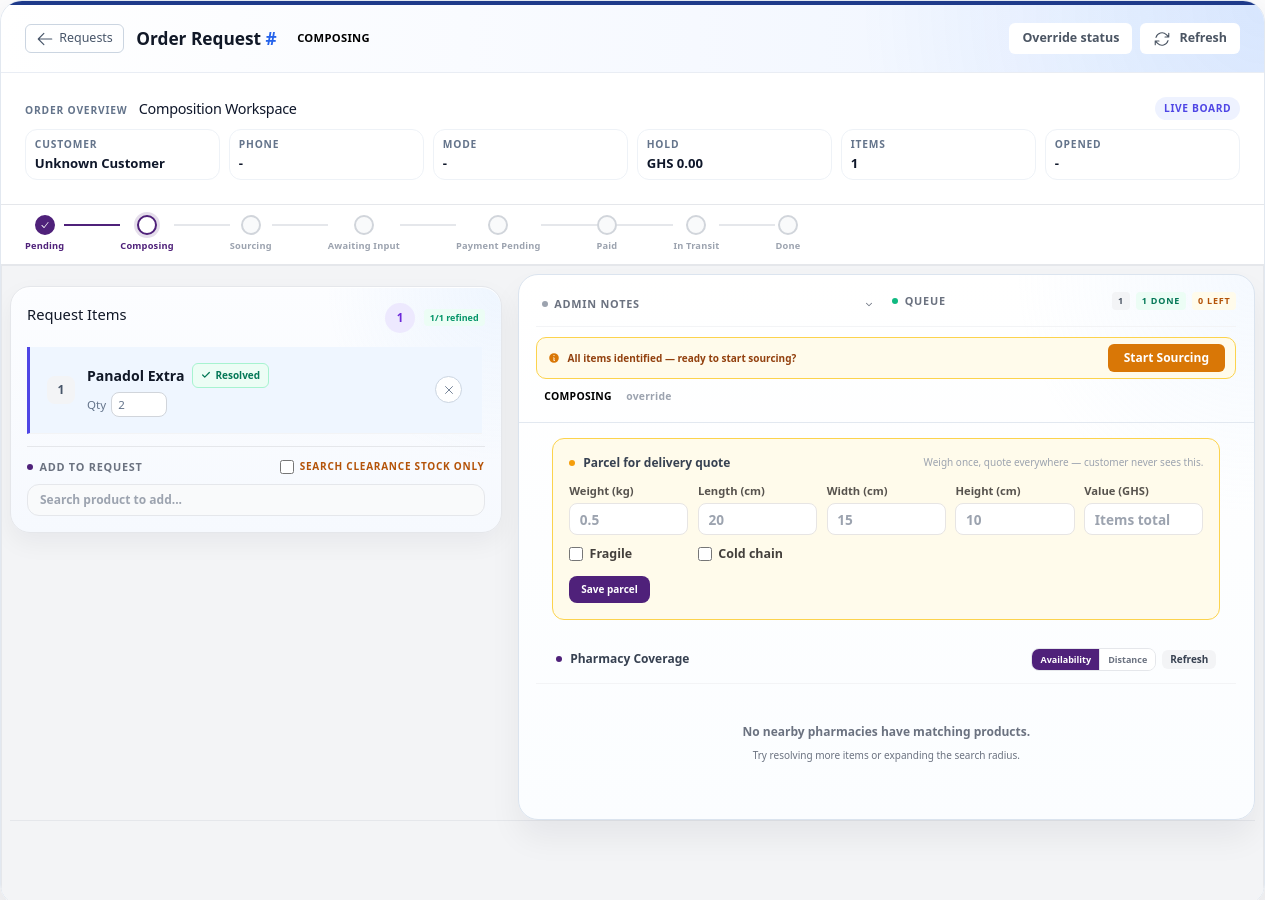
Test case: compose: adding an item › offers Add only once a name has been typed
This screenshot has width=1280, height=900.
Type "Amoxicillin" into the field with placeholder "Search product to add..." at (256, 500), box left=27, top=484, right=485, bottom=516
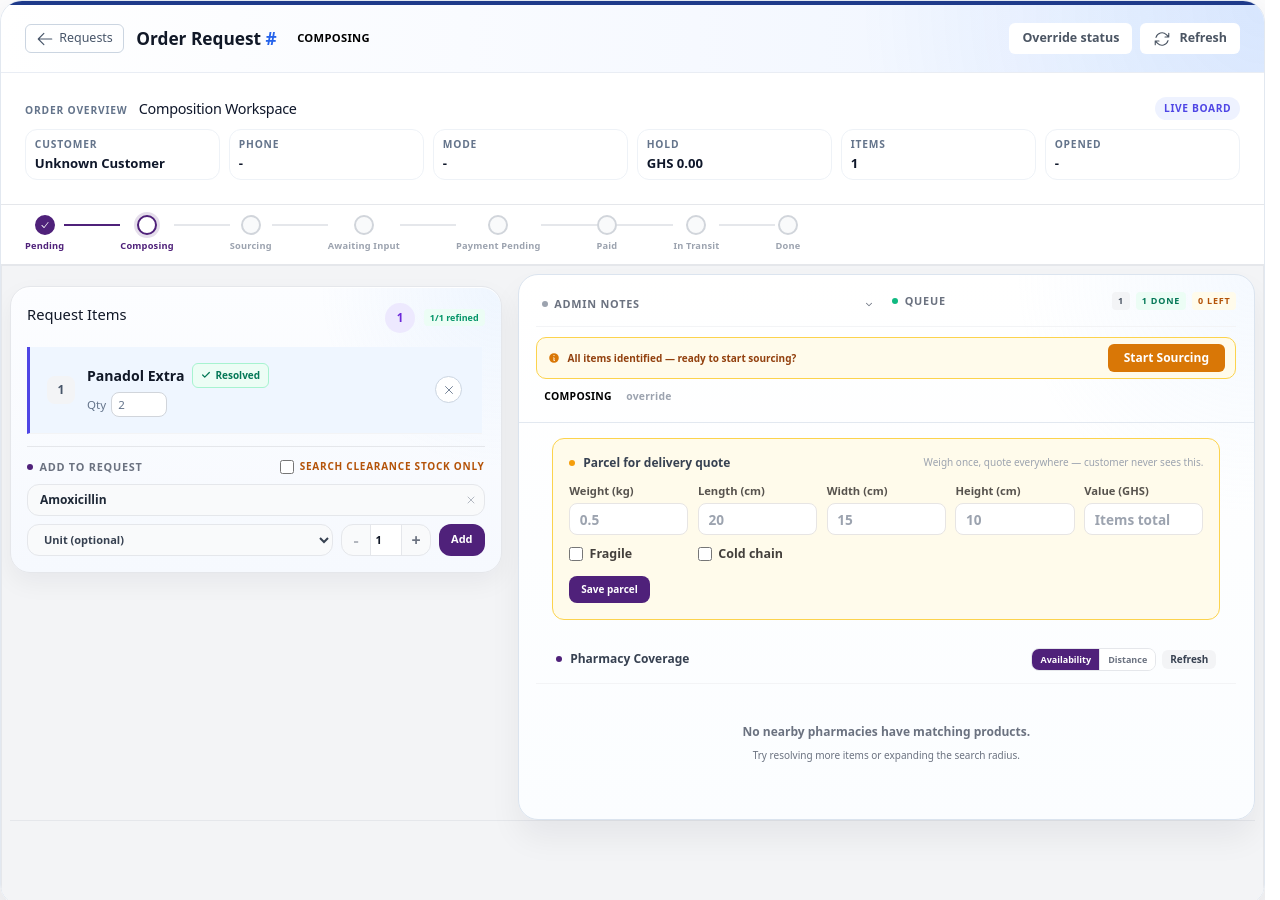
Now the button "Add" is enabled, box left=439, top=524, right=485, bottom=556
